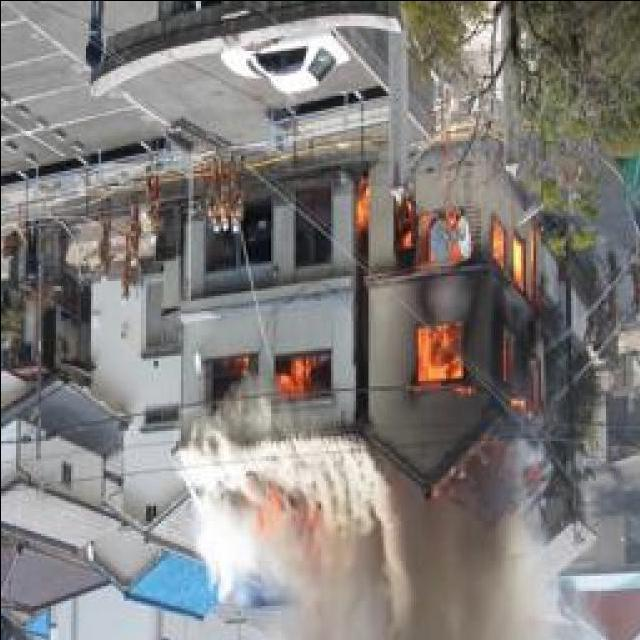Fire: (349, 178, 561, 440), (226, 482, 340, 573), (196, 348, 341, 413)
